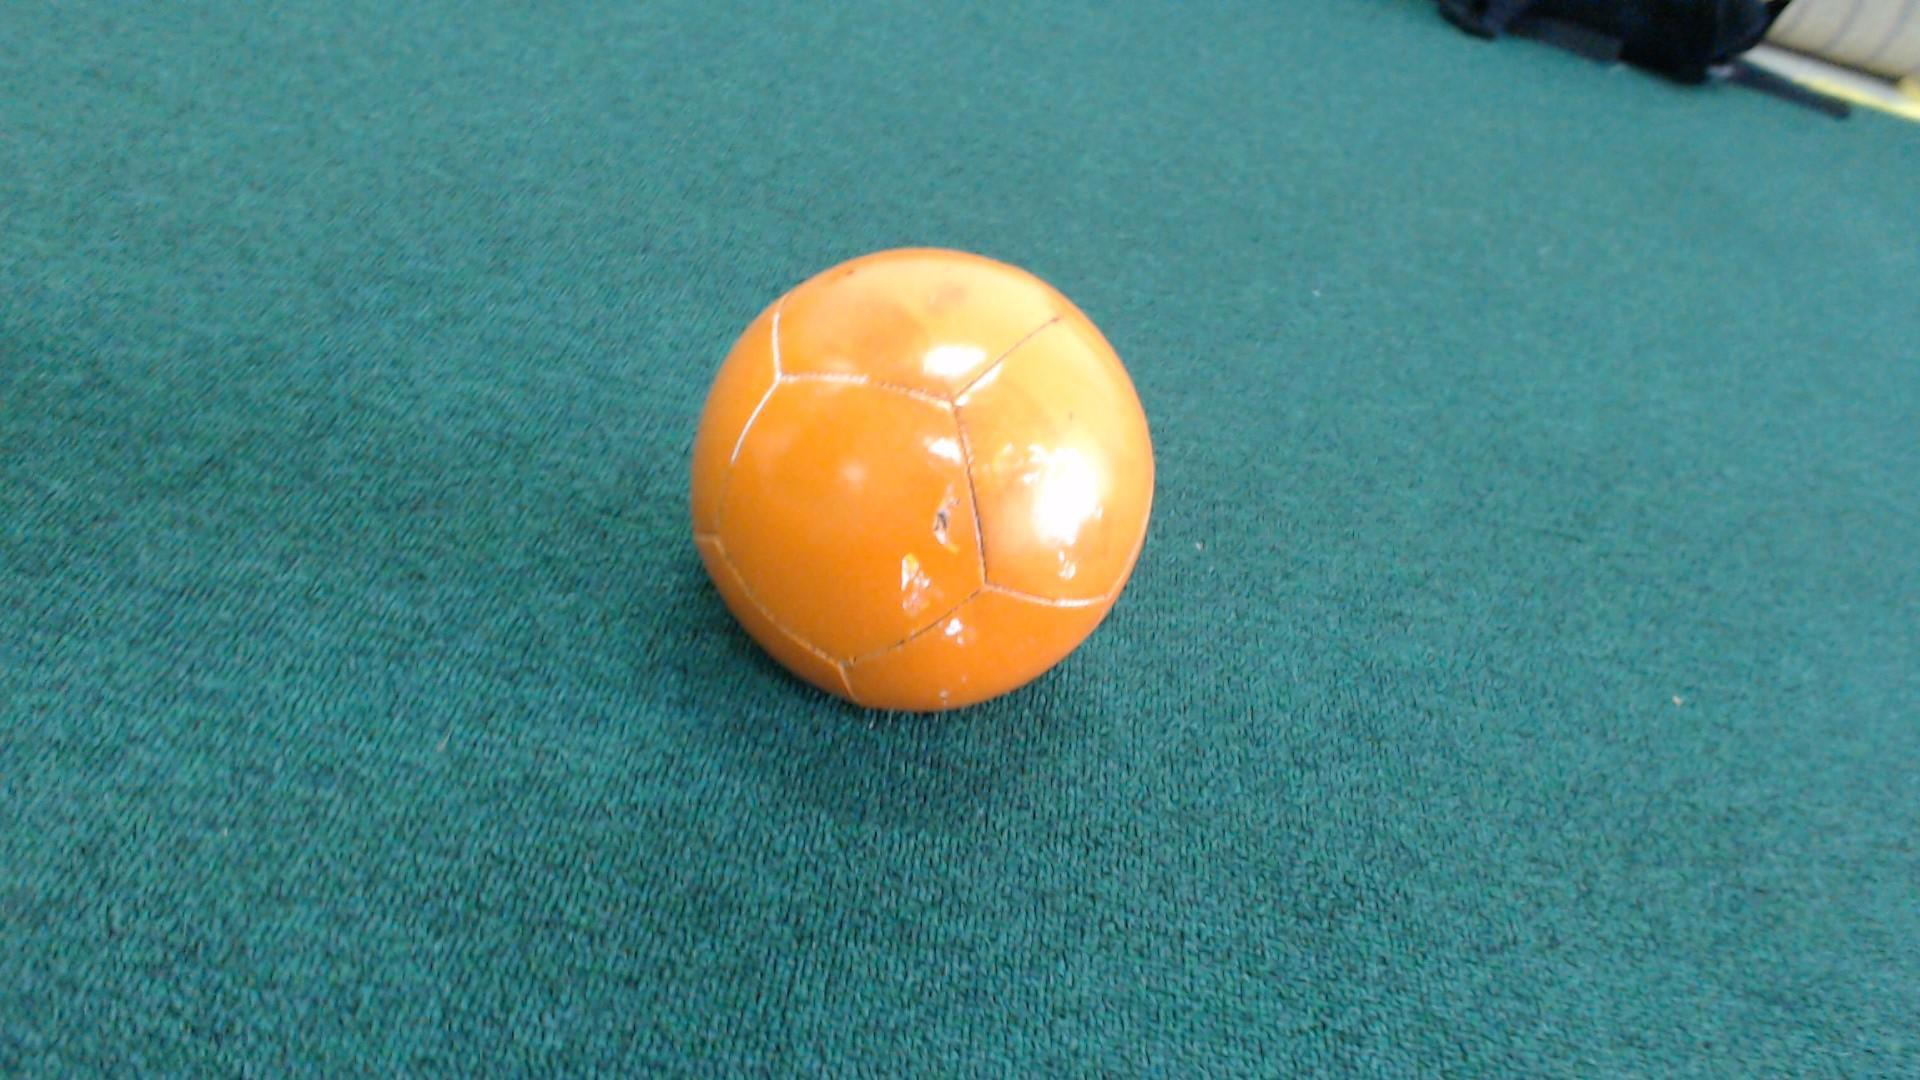bola: (650, 223, 1174, 746)
